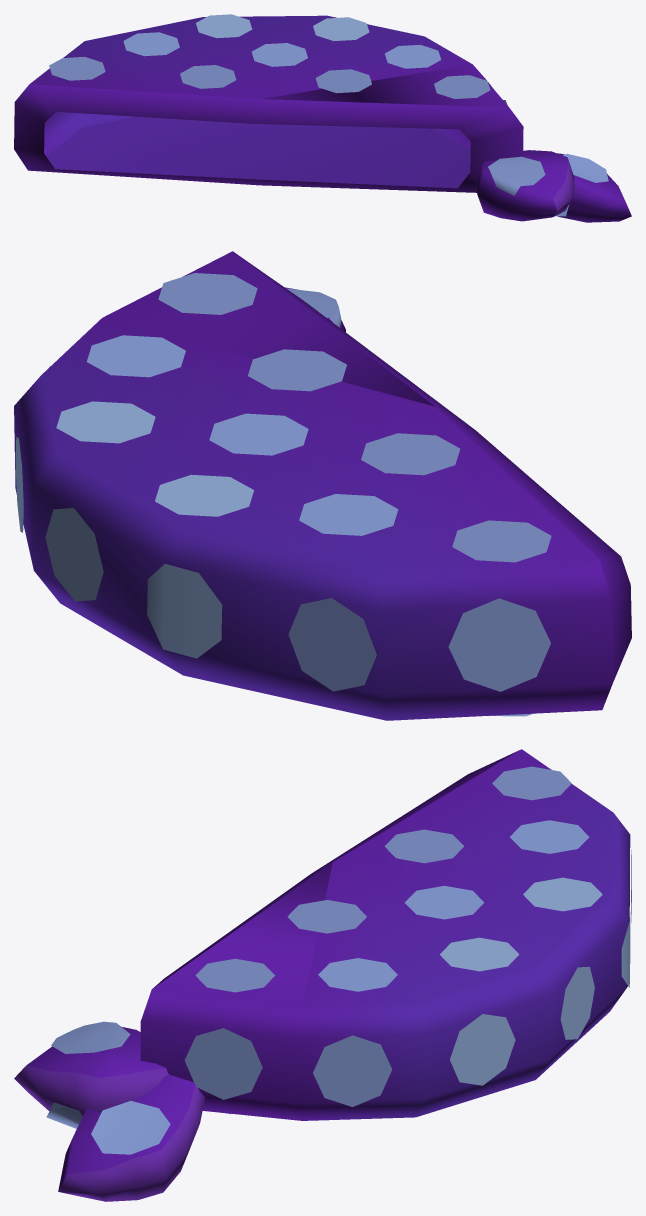
The model's file is Bandana.fbx.
3 renders of one model, top to bottom at view 1: azimuth 30°, elevation 25°; view 2: azimuth 150°, elevation 25°; view 3: azimuth 270°, elevation 25°, orthographic. The views are drawn at different scales.
Parts seen in each view (by area): view 1: Bandana; view 2: Bandana; view 3: Bandana.
Part boxes in pixels (x1,y1,x2,y2): Bandana: (14,14,631,222); Bandana: (14,251,631,720); Bandana: (14,749,631,1201).
Bounding box in the file's own units: 65.12 × 17.46 × 56.99.
